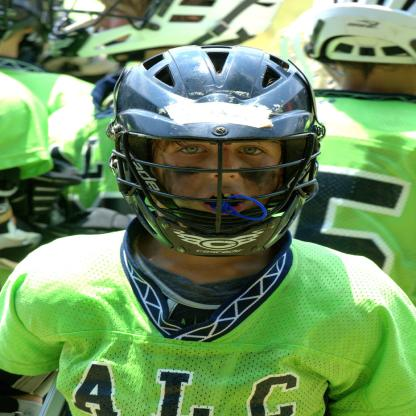Helmet: (105, 44, 325, 258), (44, 0, 282, 74), (284, 0, 414, 73), (0, 0, 82, 67)
